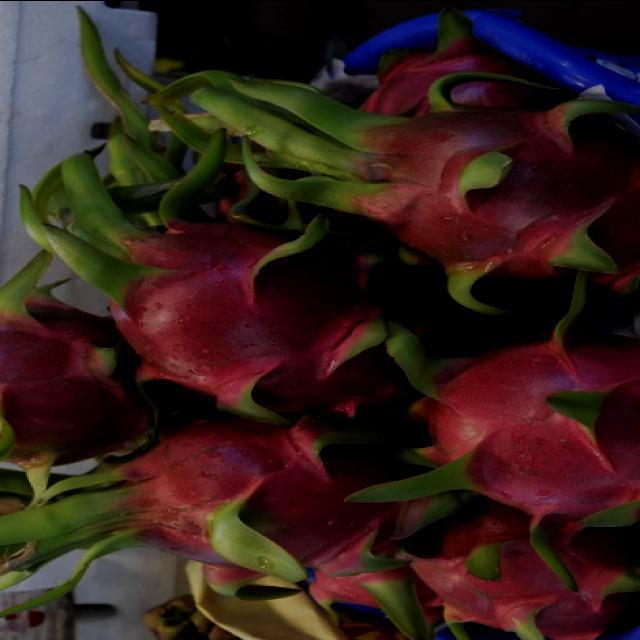trang: (192, 69, 640, 288), (35, 224, 416, 405), (104, 412, 418, 590), (409, 323, 639, 535), (400, 500, 639, 639), (0, 298, 184, 471)
